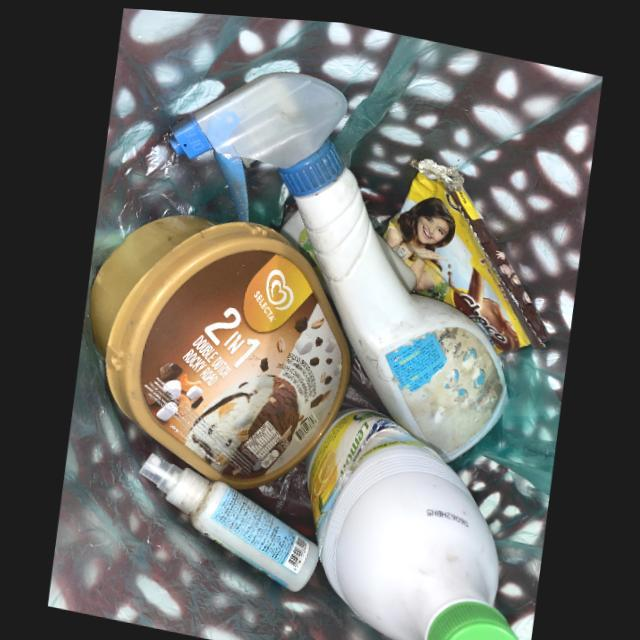plastic: (167, 70, 505, 456), (87, 212, 350, 488), (305, 403, 521, 640), (137, 451, 317, 589)
wrapper: (369, 153, 549, 347)
